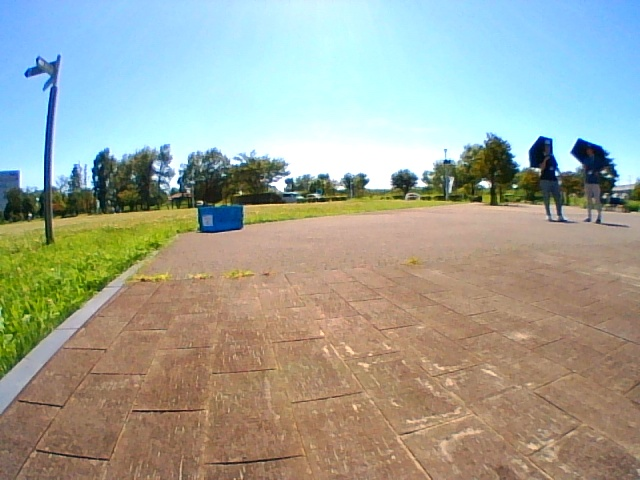blue_box: (197, 205, 243, 231)
tag: (201, 214, 213, 227)
